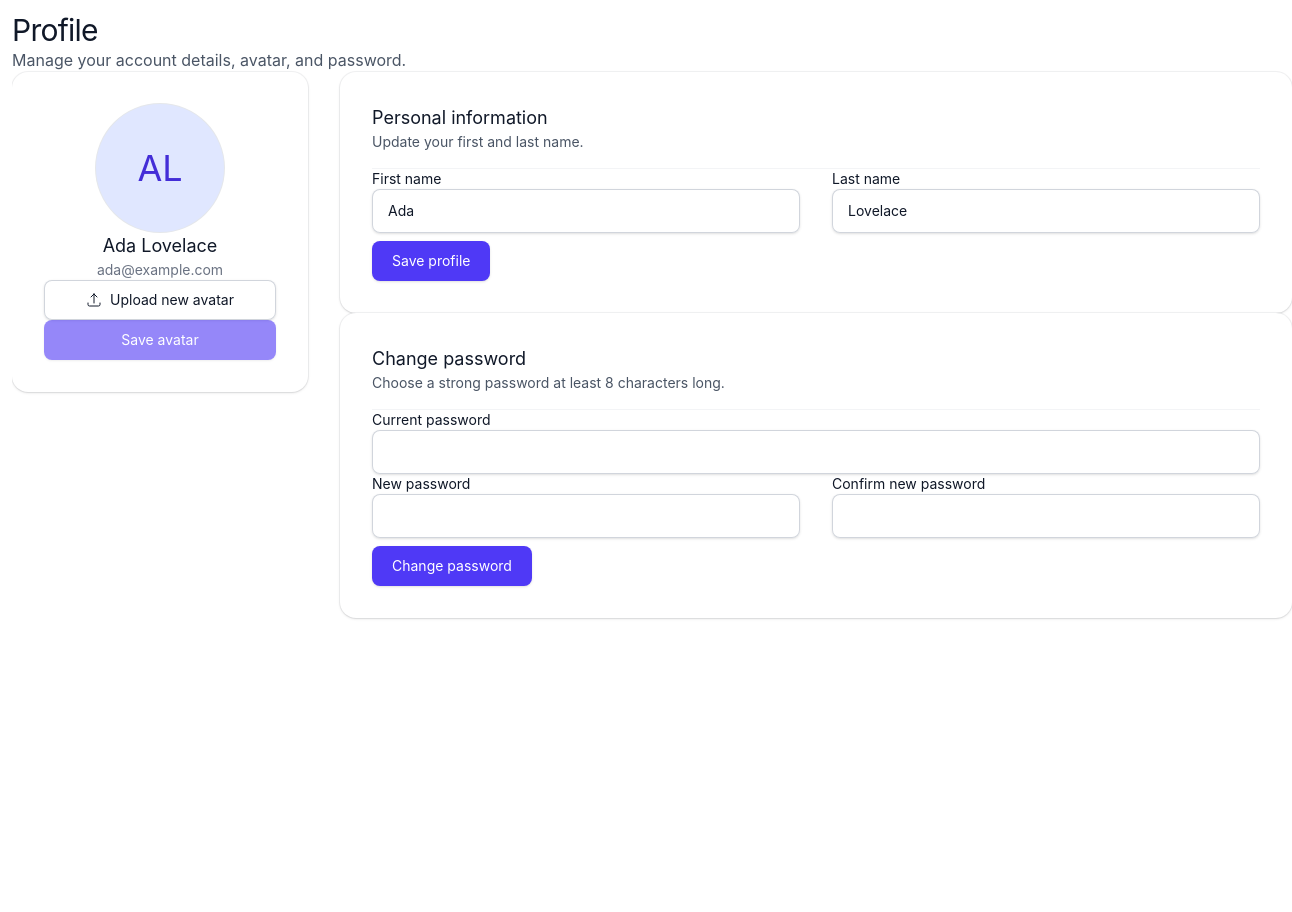
Test case: ProfileView › blocks password submission when confirmation does not match
expect the form that starts with "Current password" is shown: met, box [372,410,1260,586]
Type "current-password" into the password field with id "currentPassword" at (816, 452), box [372,430,1260,474]
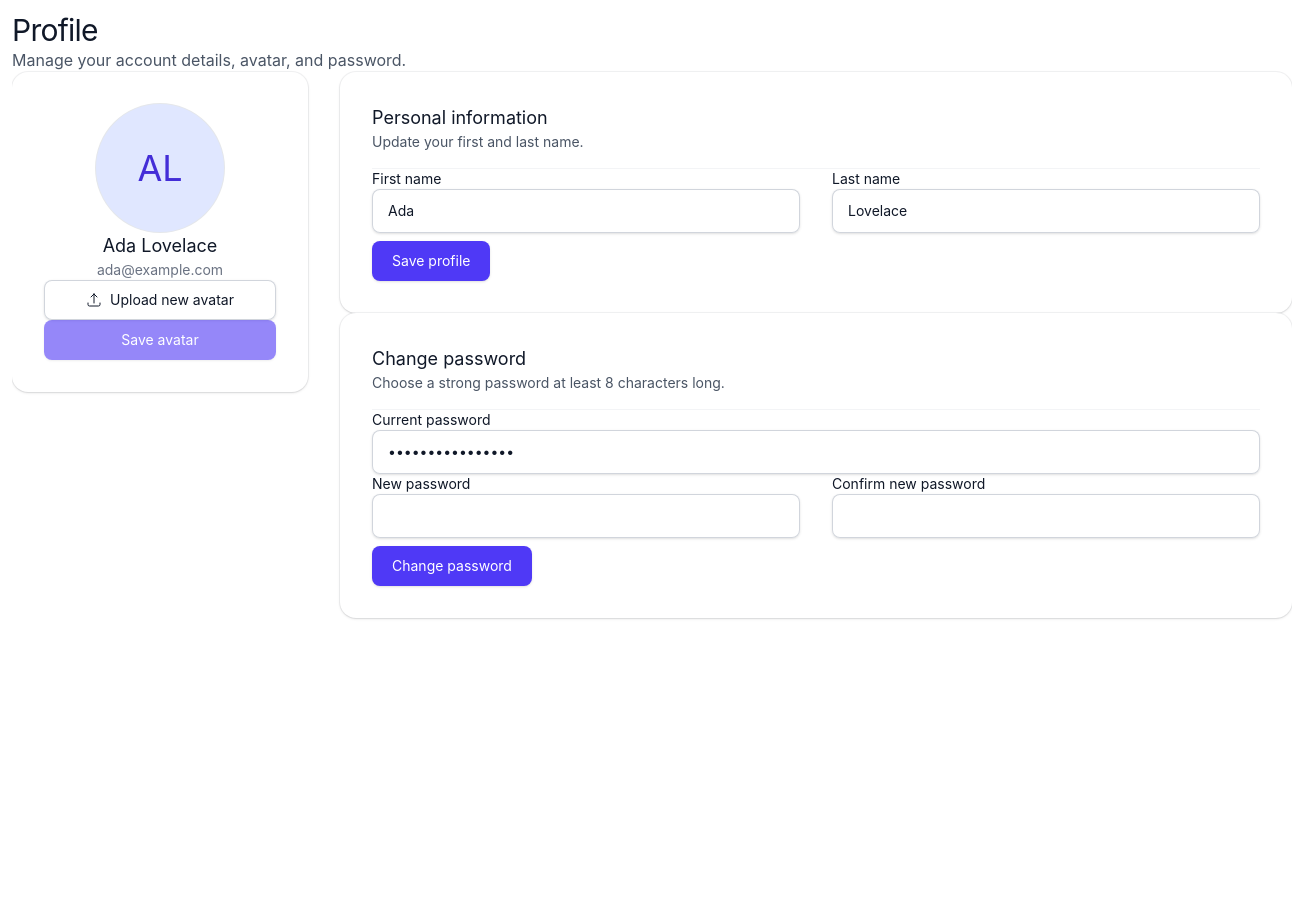
Type "new-password" into the password field with id "newPassword" at (586, 516), box [372,494,800,538]
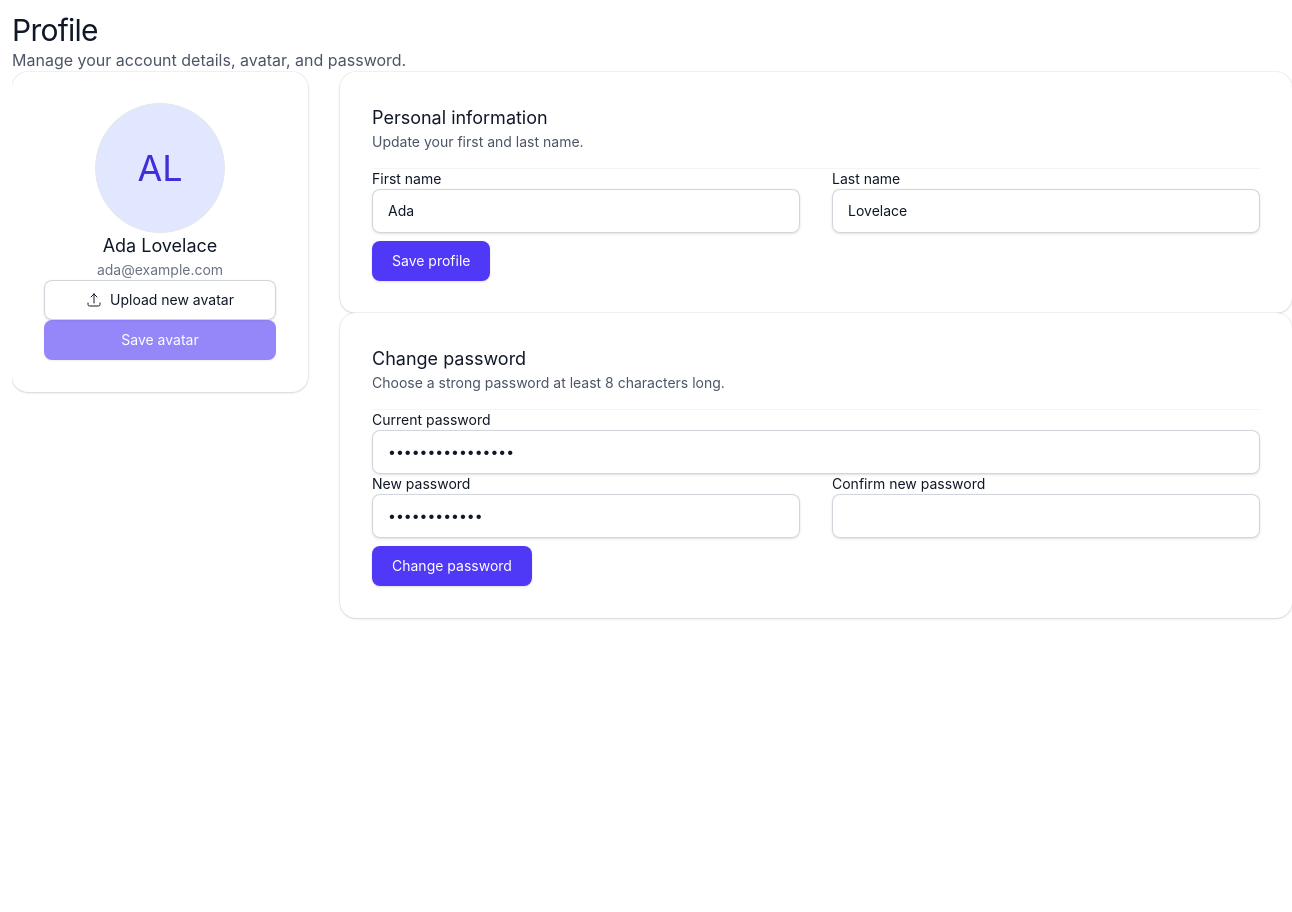
Type "different-password" into the password field with id "confirmPassword" at (1046, 516), box [832,494,1260,538]
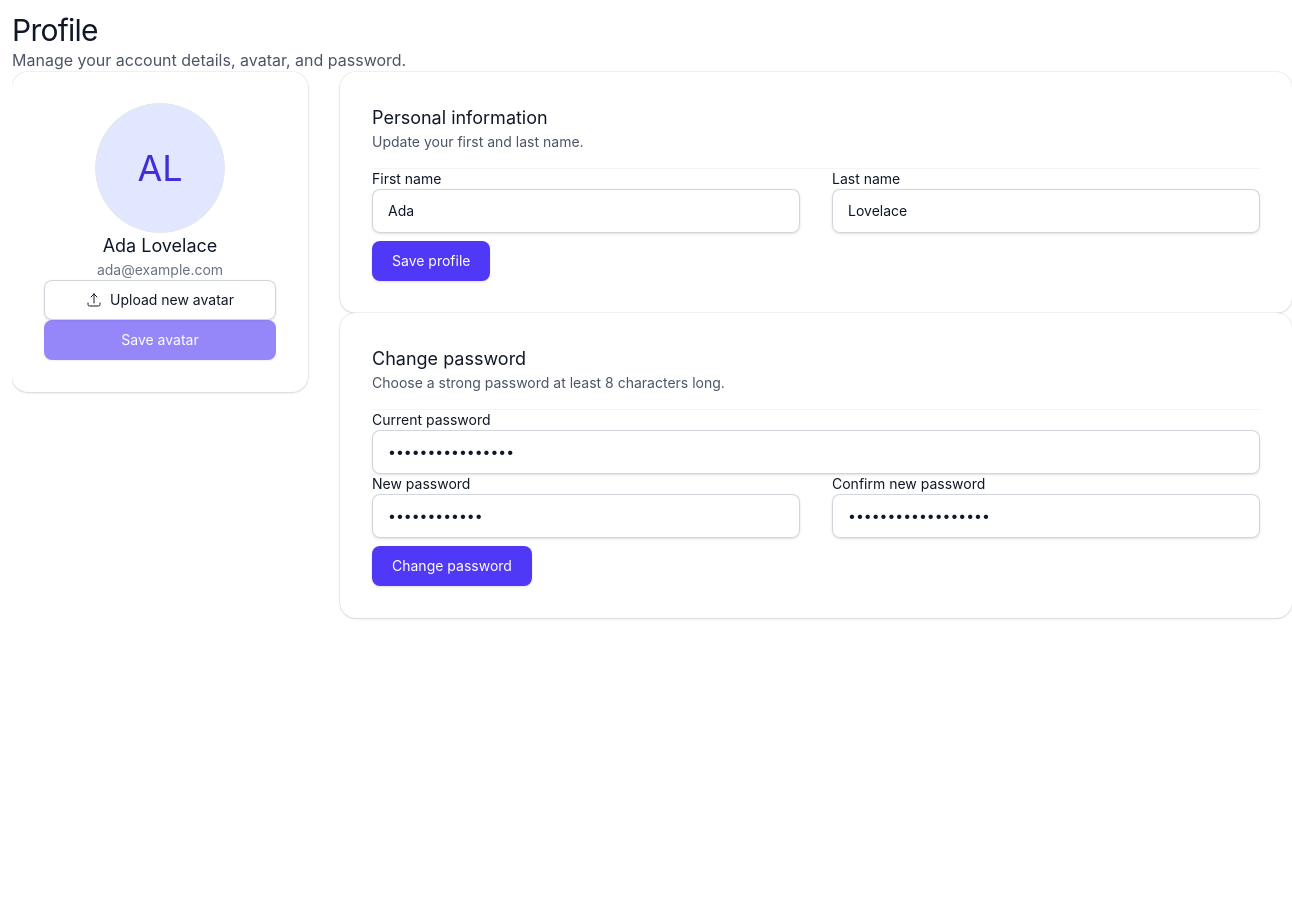
Submit the form that starts with "Current password", box [372,410,1260,586]
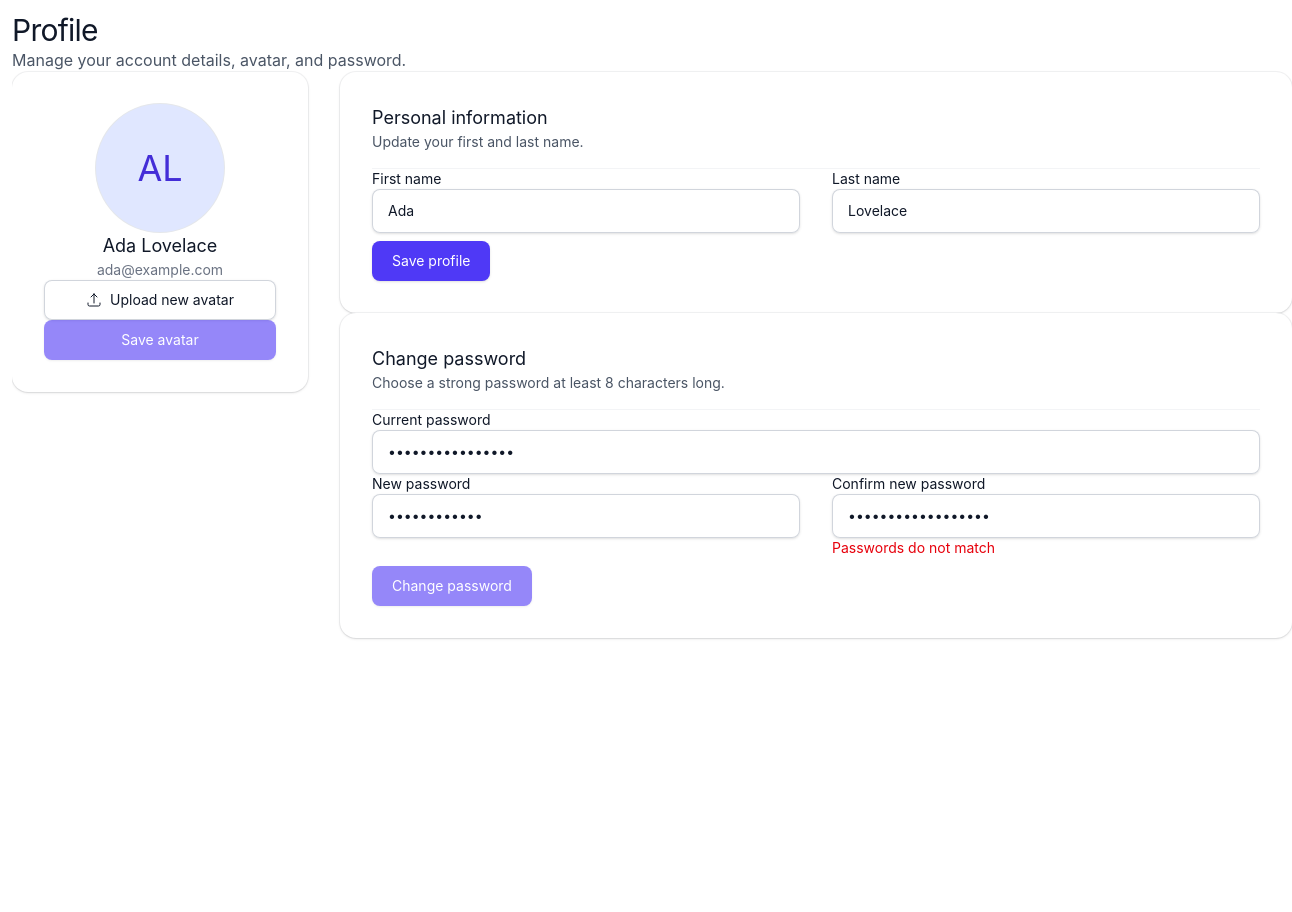
expect the text "Passwords do not match" is shown: met, box [832,539,995,556]
